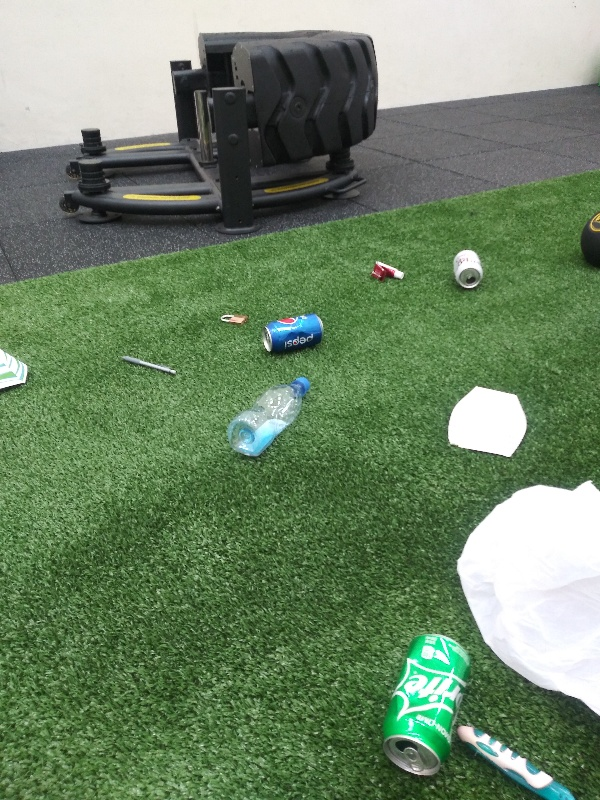bottle: (222, 371, 314, 461)
can: (369, 628, 472, 782), (258, 309, 329, 357), (448, 245, 486, 292)
plate: (438, 380, 528, 459), (1, 344, 32, 397)
